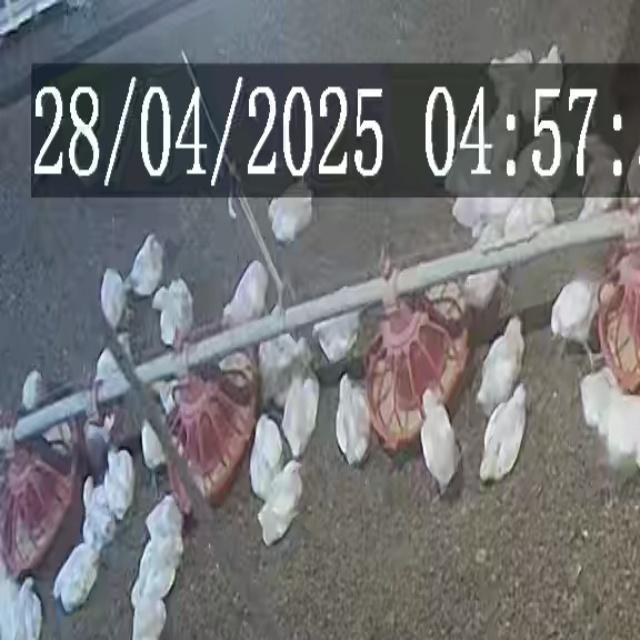chicken: (548, 272, 604, 368), (474, 316, 526, 417), (477, 383, 529, 483), (255, 331, 312, 408), (255, 461, 304, 546), (53, 538, 105, 616), (420, 386, 458, 487), (334, 373, 372, 467), (280, 369, 320, 458), (220, 262, 270, 330), (131, 541, 180, 610), (248, 416, 286, 498), (150, 278, 193, 347), (314, 307, 366, 364), (582, 140, 622, 213), (0, 569, 41, 639), (500, 196, 555, 246), (79, 479, 116, 550), (606, 391, 640, 467), (143, 495, 184, 557), (103, 445, 137, 519), (528, 49, 562, 120), (267, 193, 313, 243), (128, 238, 164, 296), (93, 348, 127, 408), (129, 592, 169, 639), (462, 268, 502, 315), (581, 369, 614, 424), (100, 269, 129, 327), (140, 418, 169, 476), (21, 368, 46, 412)
